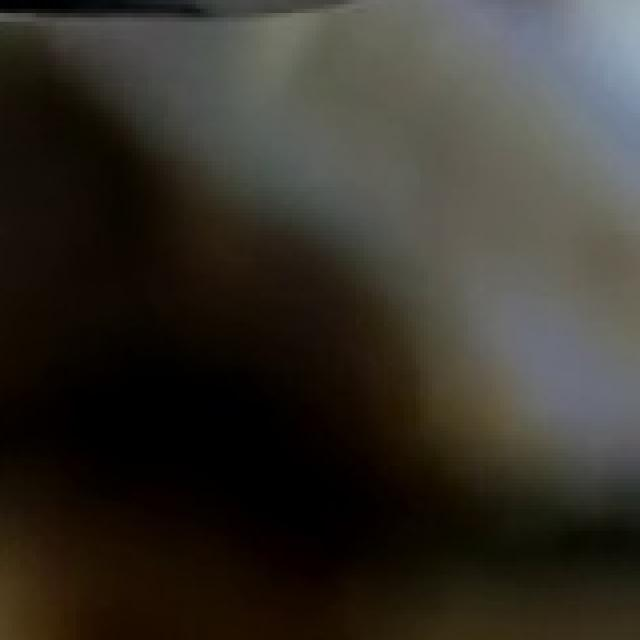fish: (0, 4, 636, 640)
